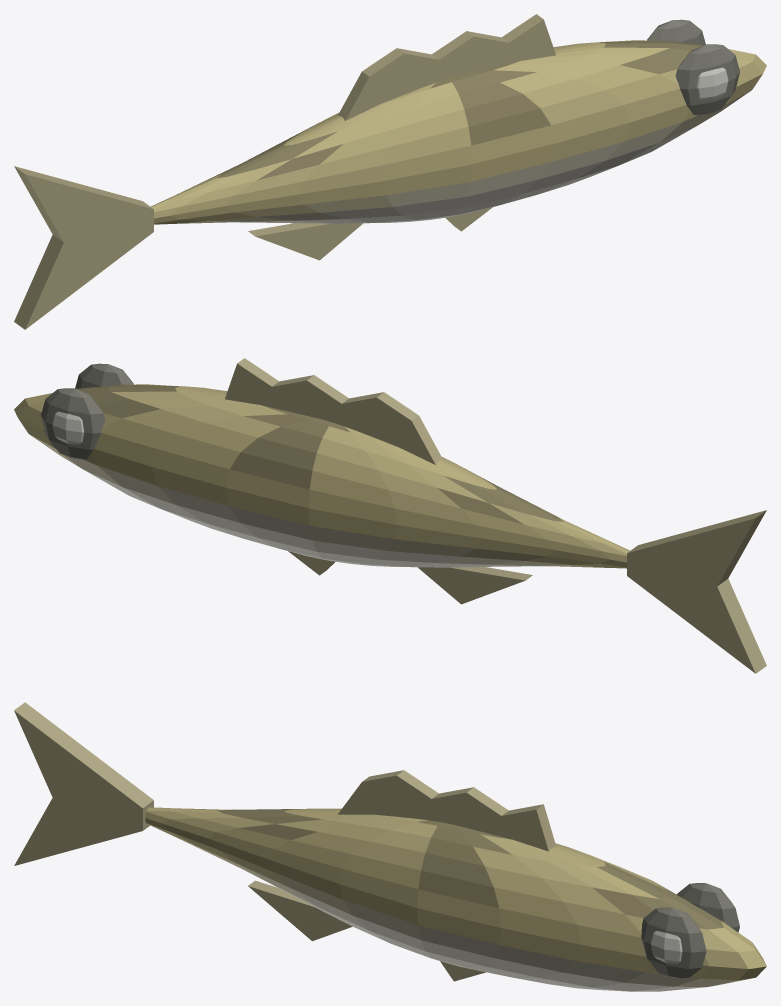
File: Walleye.glb
The picture shows the model from 3 angles, top to bottom: view 1: azimuth 30°, elevation 25°; view 2: azimuth 150°, elevation 25°; view 3: azimuth 330°, elevation 25°; orthographic projection.
Parts seen in each view (by area): view 1: Walleye; view 2: Walleye; view 3: Walleye.
Part boxes in pixels (x1,y1,x2,y2): Walleye: (14,14,766,329); Walleye: (14,358,766,673); Walleye: (14,702,766,991).
Size of the model in its own units: 5.07 by 1.25 by 0.6462.
